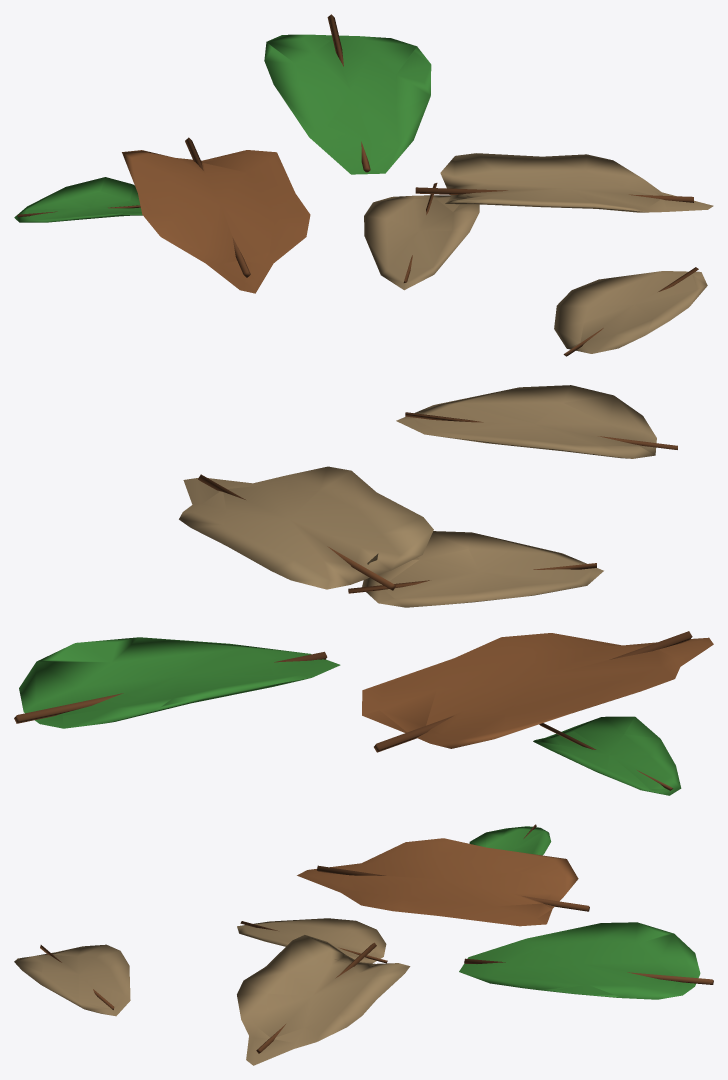
The model's file is glade_gc_leaf_litter_b_lod1.glb.
3 renders of one model, top to bottom at view 1: azimuth 30°, elevation 25°; view 2: azimuth 150°, elevation 25°; view 3: azimuth 270°, elevation 25°, orthographic. The views are drawn at different scales.
Visible parts, largest first — view 1: glade_gc_leaf_litter_b.001; view 2: glade_gc_leaf_litter_b.001; view 3: glade_gc_leaf_litter_b.001.
Part boxes in pixels (x1=…): glade_gc_leaf_litter_b.001: x1=14, y1=14, x2=713, y2=356; glade_gc_leaf_litter_b.001: x1=14, y1=385, x2=713, y2=795; glade_gc_leaf_litter_b.001: x1=14, y1=824, x2=713, y2=1065.
Size of the model in its own units: 3.79 by 0.3041 by 4.74.
